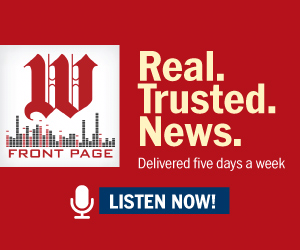fake_button: (96, 184, 240, 225)
